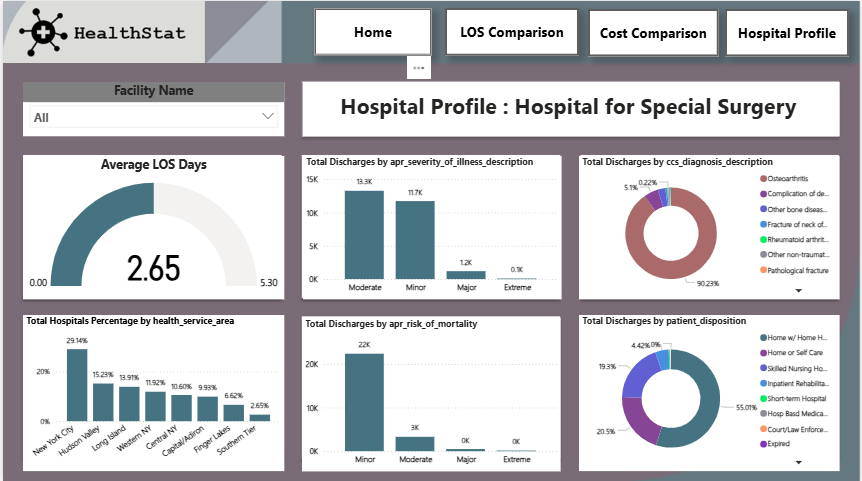

The page's visual inventory and layout, read from the dashboard file:
{"tool":"powerbi","page":{"name":"Hospital Profile","canvas":[1280,720],"ordinal":3},"visuals":[{"type":"actionButton","box":[660,10,200,71.2],"z":0},{"type":"actionButton","box":[872.7,11.2,195.2,70.8],"z":1000},{"type":"actionButton","box":[1078,11.2,185.1,70.8],"z":2000},{"type":"actionButton","title":"Home","box":[463.8,10,176.2,71.2],"z":3000},{"type":"textbox","box":[447.5,121.2,801.2,81.2],"z":4000},{"type":"clusteredColumnChart","fields":{"Category":["hip_replacement_discharges.apr_severity_of_illness_description"],"Y":["_Measures.Total Discharges"]},"box":[447.5,231.2,386.2,213.8],"z":5000},{"type":"donutChart","fields":{"Category":["hip_replacement_discharges.ccs_diagnosis_description"],"Y":["_Measures.Total Discharges"]},"box":[860,231.2,388.8,213.8],"z":6000},{"type":"donutChart","fields":{"Category":["hip_replacement_discharges.patient_disposition"],"Y":["_Measures.Total Discharges"]},"box":[860,468.8,388.8,232.5],"z":7000},{"type":"clusteredColumnChart","fields":{"Category":["hip_replacement_discharges.apr_risk_of_mortality"],"Y":["_Measures.Total Discharges"]},"box":[446.2,472.5,386.2,228.8],"z":8000},{"type":"slicer","title":"Facility Name","fields":{"Values":["hip_replacement_discharges.facility_name"]},"box":[30,121.2,390,81.2],"z":9000},{"type":"gauge","fields":{"Y":["_Measures.Average LOS Days"]},"box":[30,231,390,214],"z":10000},{"type":"clusteredColumnChart","title":"Total Hospitals Percentage by health_service_area","fields":{"Category":["hip_replacement_discharges.health_service_area"],"Y":["_Measures.Total Hospitals"]},"box":[30,468.8,390,232.5],"z":11000}]}

Visuals, with their boxes in screenshot pixels (x1, y1, x2, y2), scaled from the page's 1280x720 canvas onto the 862x481 screenshot:
actionButton: locate(444, 7, 579, 54)
actionButton: locate(588, 7, 719, 55)
actionButton: locate(726, 7, 851, 55)
"Home" actionButton: locate(312, 7, 431, 54)
textbox: locate(301, 81, 841, 135)
clusteredColumnChart - hip_replacement_discharges.apr_severity_of_illness_description x _Measures.Total Discharges: locate(301, 154, 561, 297)
donutChart - hip_replacement_discharges.ccs_diagnosis_description x _Measures.Total Discharges: locate(579, 154, 841, 297)
donutChart - hip_replacement_discharges.patient_disposition x _Measures.Total Discharges: locate(579, 313, 841, 469)
clusteredColumnChart - hip_replacement_discharges.apr_risk_of_mortality x _Measures.Total Discharges: locate(300, 316, 561, 469)
"Facility Name" slicer: locate(20, 81, 283, 135)
gauge - _Measures.Average LOS Days: locate(20, 154, 283, 297)
"Total Hospitals Percentage by health_service_area" clusteredColumnChart: locate(20, 313, 283, 469)
